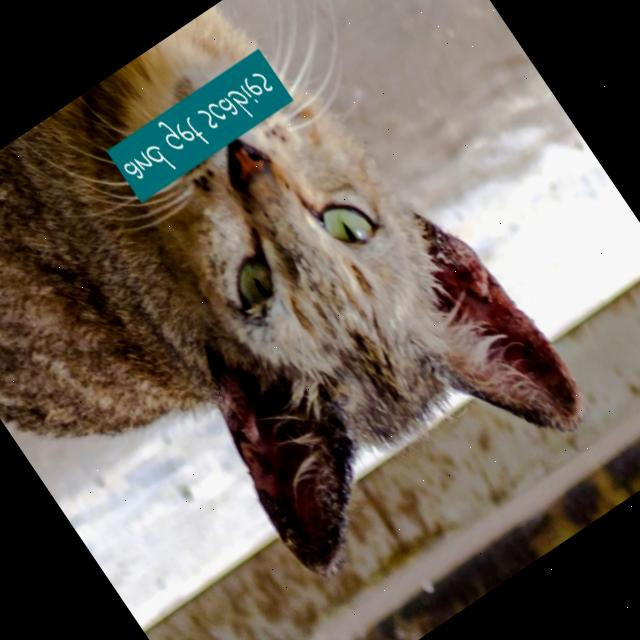cat-scabies: (393, 240, 583, 456), (213, 364, 389, 568)
